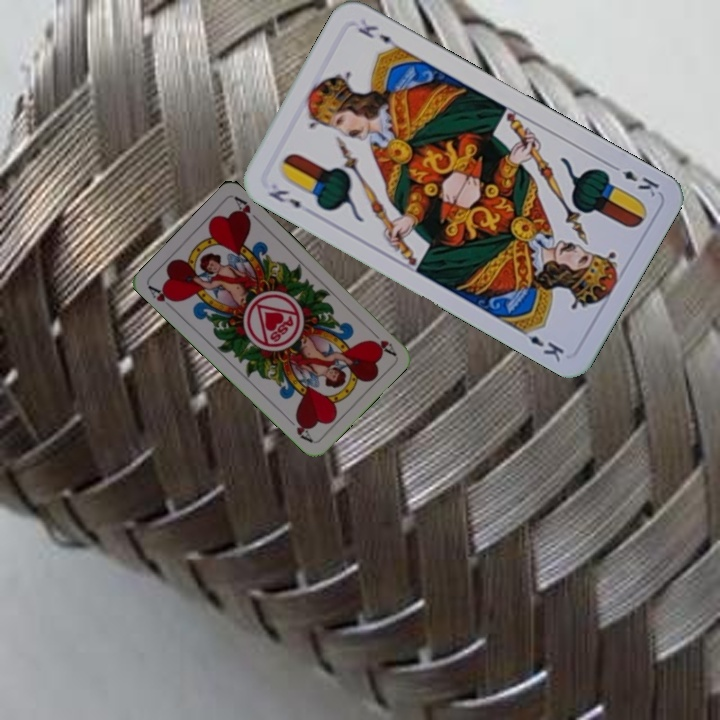EK: (606, 160, 662, 200), (264, 185, 304, 211)
HA: (365, 325, 398, 358), (145, 282, 180, 305)
